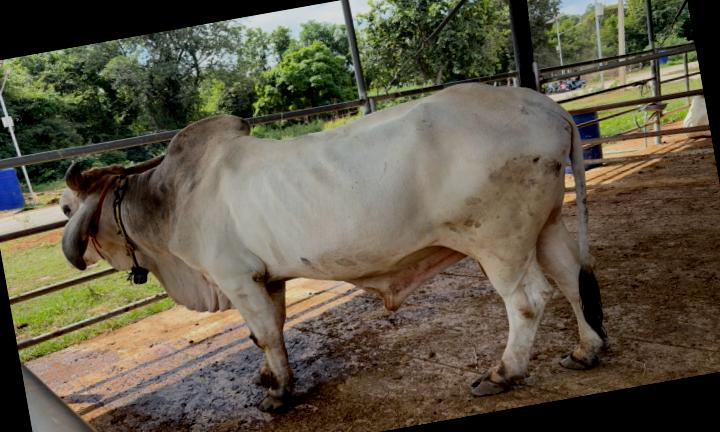Brahman: (62, 83, 609, 410)
